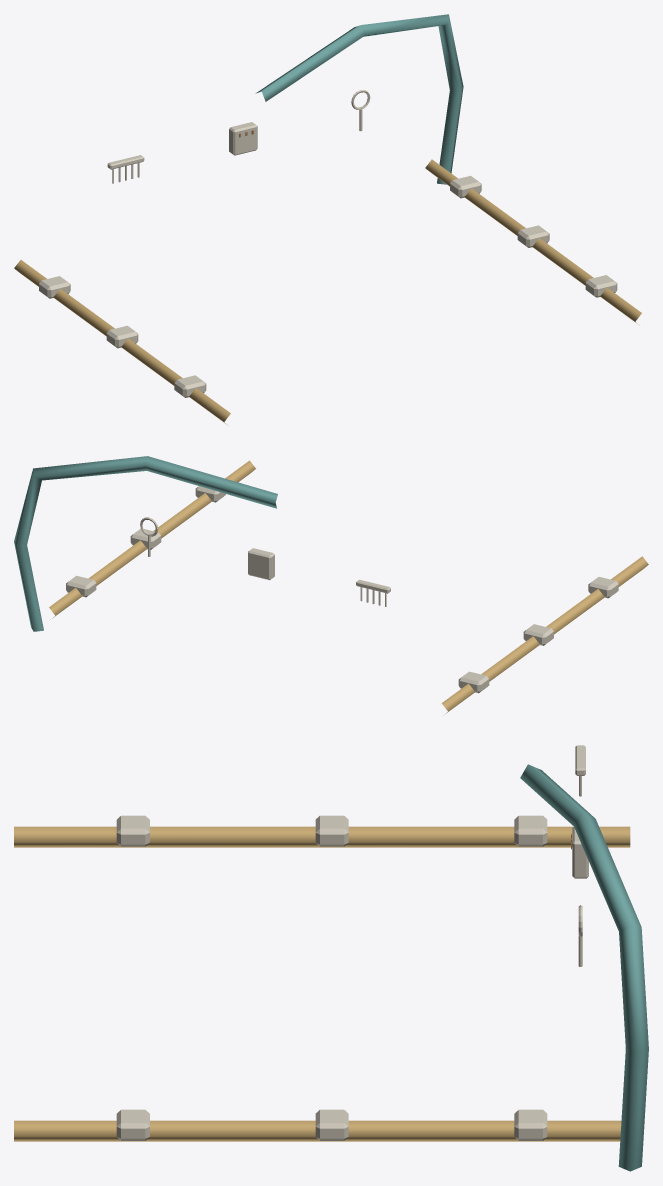
Rendered from m09_level_2.glb.
3 views of the same model, one above another, from view 1: azimuth 30°, elevation 25°; view 2: azimuth 150°, elevation 25°; view 3: azimuth 270°, elevation 25° (orthographic). The views are drawn at different scales.
Parts seen in each view (by area): view 1: m09_level_2; view 2: m09_level_2; view 3: m09_level_2.
Boxes of the visible parts, bbox=[...] form: m09_level_2: bbox=[14, 14, 641, 425]; m09_level_2: bbox=[14, 456, 648, 715]; m09_level_2: bbox=[14, 745, 648, 1171].
Bounding box in the file's own units: 2.33 × 0.9428 × 1.92.
